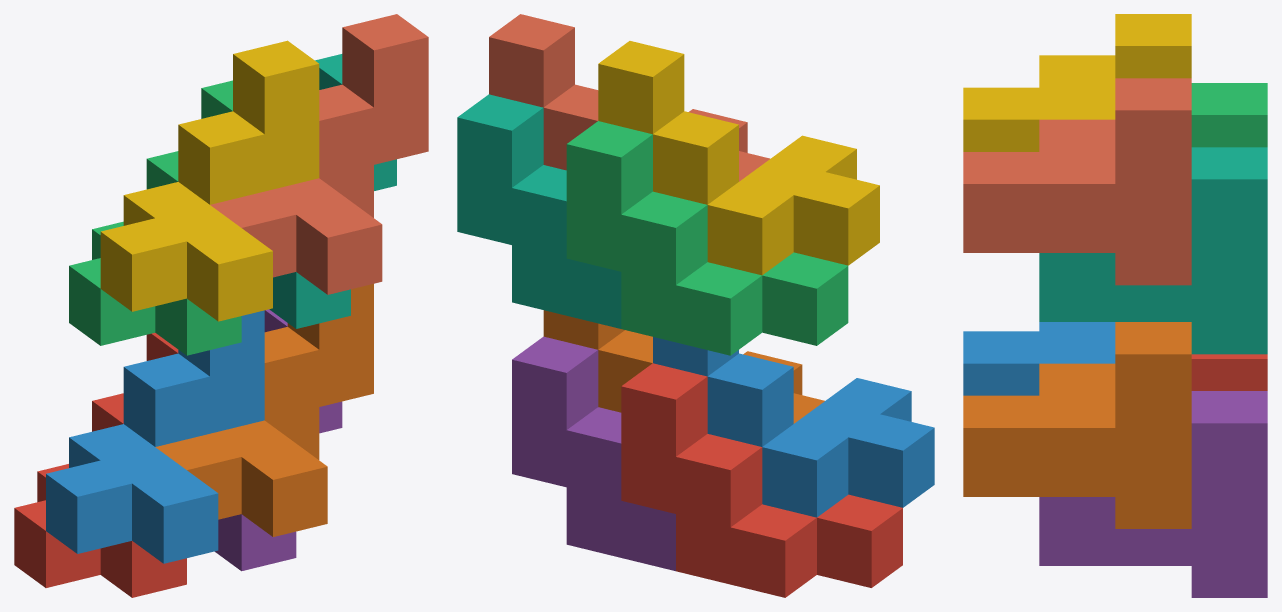
File: tiling.obj
3 views of the same model, side by side, from view 1: azimuth 30°, elevation 25°; view 2: azimuth 150°, elevation 25°; view 3: azimuth 270°, elevation 25° (orthographic). The views are drawn at different scales.
Parts seen in each view (by area): view 1: copy_1_domain_4, copy_1_domain_2, copy_1_domain_8, copy_1_domain_6, copy_1_domain_3, copy_1_domain_1, copy_1_domain_7, copy_1_domain_5; view 2: copy_1_domain_3, copy_1_domain_1, copy_1_domain_4, copy_1_domain_2, copy_1_domain_5, copy_1_domain_7, copy_1_domain_8, copy_1_domain_6; view 3: copy_1_domain_8, copy_1_domain_6, copy_1_domain_7, copy_1_domain_5, copy_1_domain_4, copy_1_domain_2, copy_1_domain_3, copy_1_domain_1.
Part boxes in pixels (left/top/right/bottom): copy_1_domain_4: left=100, top=40, right=319, bottom=321; copy_1_domain_2: left=46, top=310, right=264, bottom=563; copy_1_domain_8: left=210, top=14, right=428, bottom=294; copy_1_domain_6: left=155, top=283, right=373, bottom=536; copy_1_domain_3: left=69, top=80, right=241, bottom=355; copy_1_domain_1: left=14, top=333, right=186, bottom=597; copy_1_domain_7: left=269, top=54, right=396, bottom=328; copy_1_domain_5: left=215, top=309, right=342, bottom=571; copy_1_domain_3: left=566, top=121, right=848, bottom=355; copy_1_domain_1: left=621, top=363, right=902, bottom=597; copy_1_domain_4: left=598, top=41, right=879, bottom=275; copy_1_domain_2: left=653, top=337, right=934, bottom=517; copy_1_domain_5: left=512, top=336, right=675, bottom=571; copy_1_domain_7: left=457, top=94, right=621, bottom=328; copy_1_domain_8: left=489, top=14, right=769, bottom=181; copy_1_domain_6: left=543, top=310, right=824, bottom=423; copy_1_domain_8: left=963, top=78, right=1191, bottom=285; copy_1_domain_6: left=963, top=322, right=1191, bottom=528; copy_1_domain_7: left=1039, top=147, right=1267, bottom=354; copy_1_domain_5: left=1039, top=391, right=1267, bottom=597; copy_1_domain_4: left=963, top=14, right=1191, bottom=151; copy_1_domain_2: left=963, top=322, right=1115, bottom=395; copy_1_domain_3: left=1191, top=83, right=1267, bottom=147; copy_1_domain_1: left=1191, top=354, right=1267, bottom=390.
Size of the model in its own units: 7 by 8 by 4.
